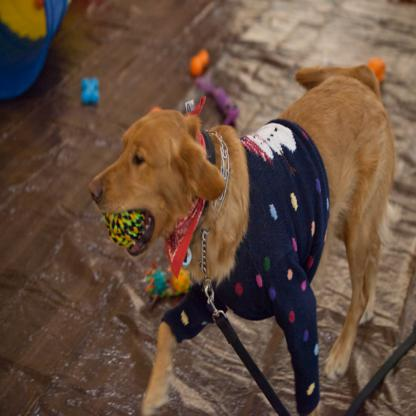Ball: (105, 210, 146, 247)
